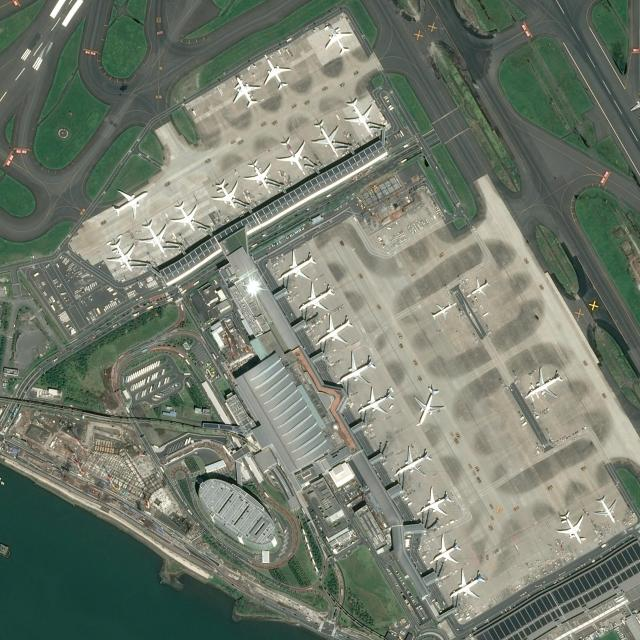aircraft: (335, 350, 375, 384), (342, 98, 374, 136), (356, 384, 394, 416), (275, 138, 307, 174), (278, 250, 318, 278), (526, 368, 562, 399), (414, 386, 444, 423), (296, 282, 334, 311), (313, 316, 352, 344), (110, 188, 146, 218), (394, 446, 430, 476), (415, 487, 451, 517), (448, 570, 484, 600), (311, 119, 339, 155), (262, 57, 291, 90), (139, 221, 168, 254), (322, 25, 353, 55), (231, 75, 260, 107), (106, 242, 136, 272), (169, 202, 198, 232), (430, 536, 460, 564), (557, 511, 583, 543), (211, 180, 240, 208), (245, 160, 272, 190), (594, 496, 616, 524), (430, 302, 454, 320), (470, 279, 488, 296)
